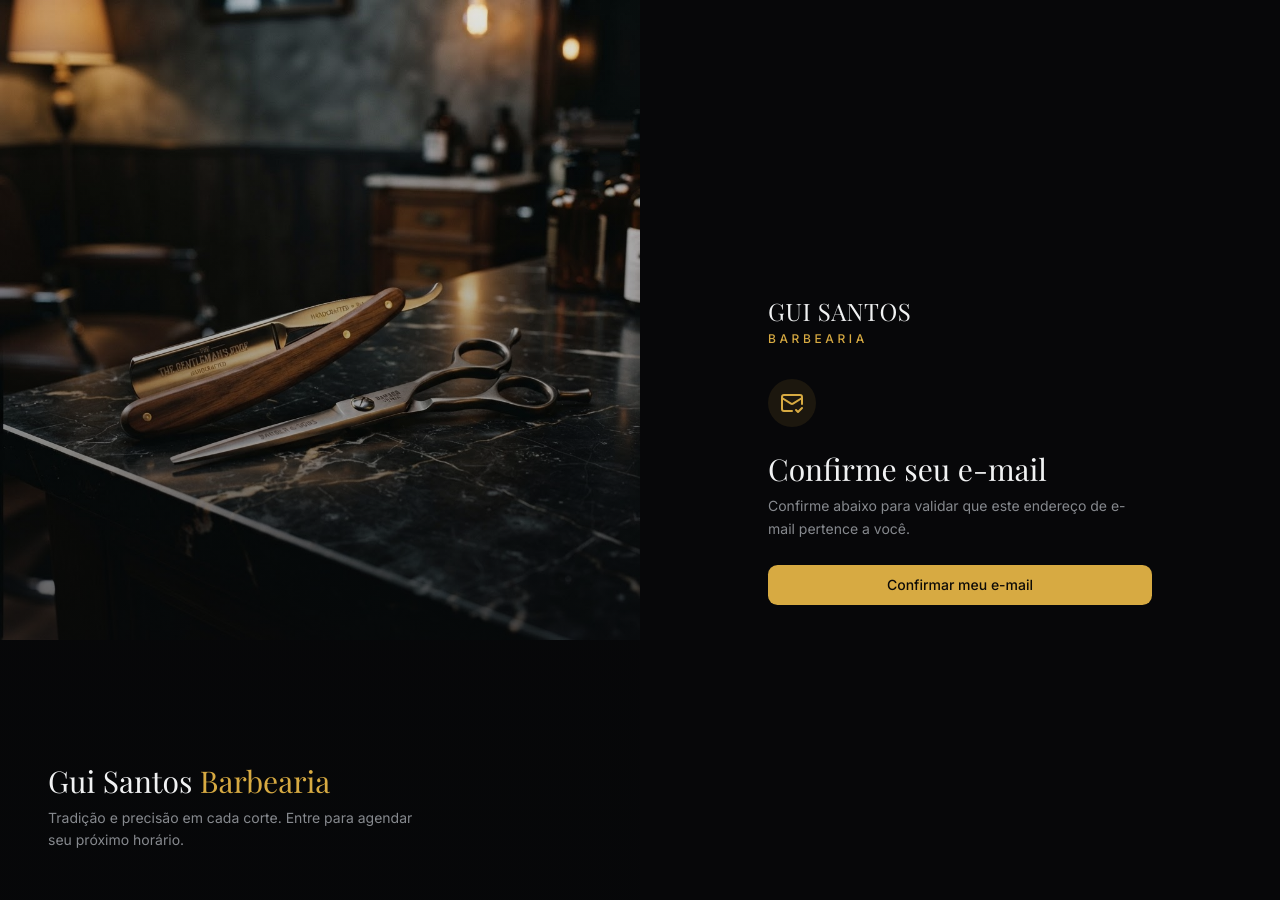
Test case: confirmação de e-mail › permite tentar novamente depois de uma falha de rede
Click the button "Confirmar meu e-mail" at (960, 585), box [768,565,1152,605]
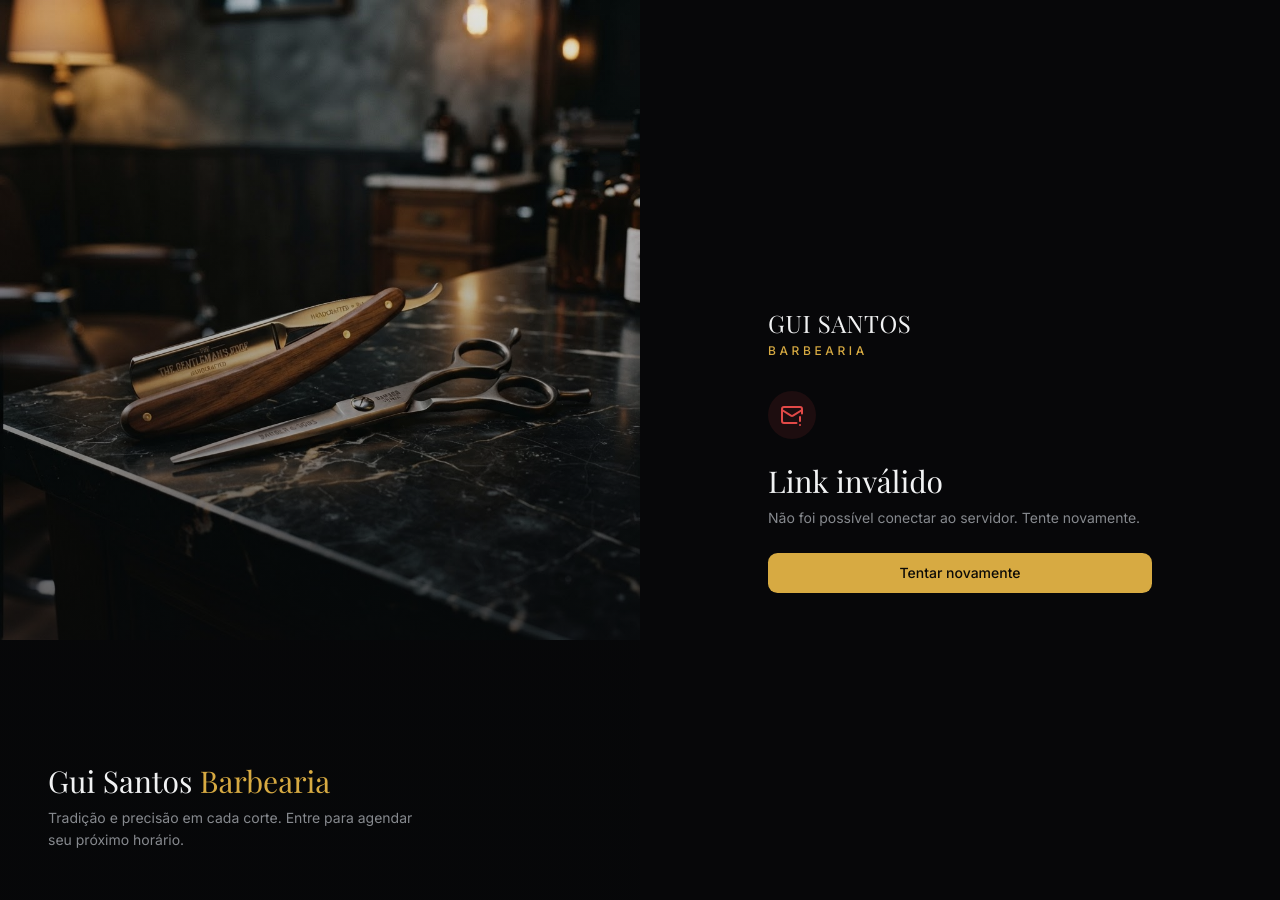
Expected: the button "Ir para o login" is not shown
Now the text "Não foi possível conectar ao servidor. Tente novamente." is shown, box [768,507,1152,529]
Click the button "Tentar novamente" at (960, 573), box [768,553,1152,593]
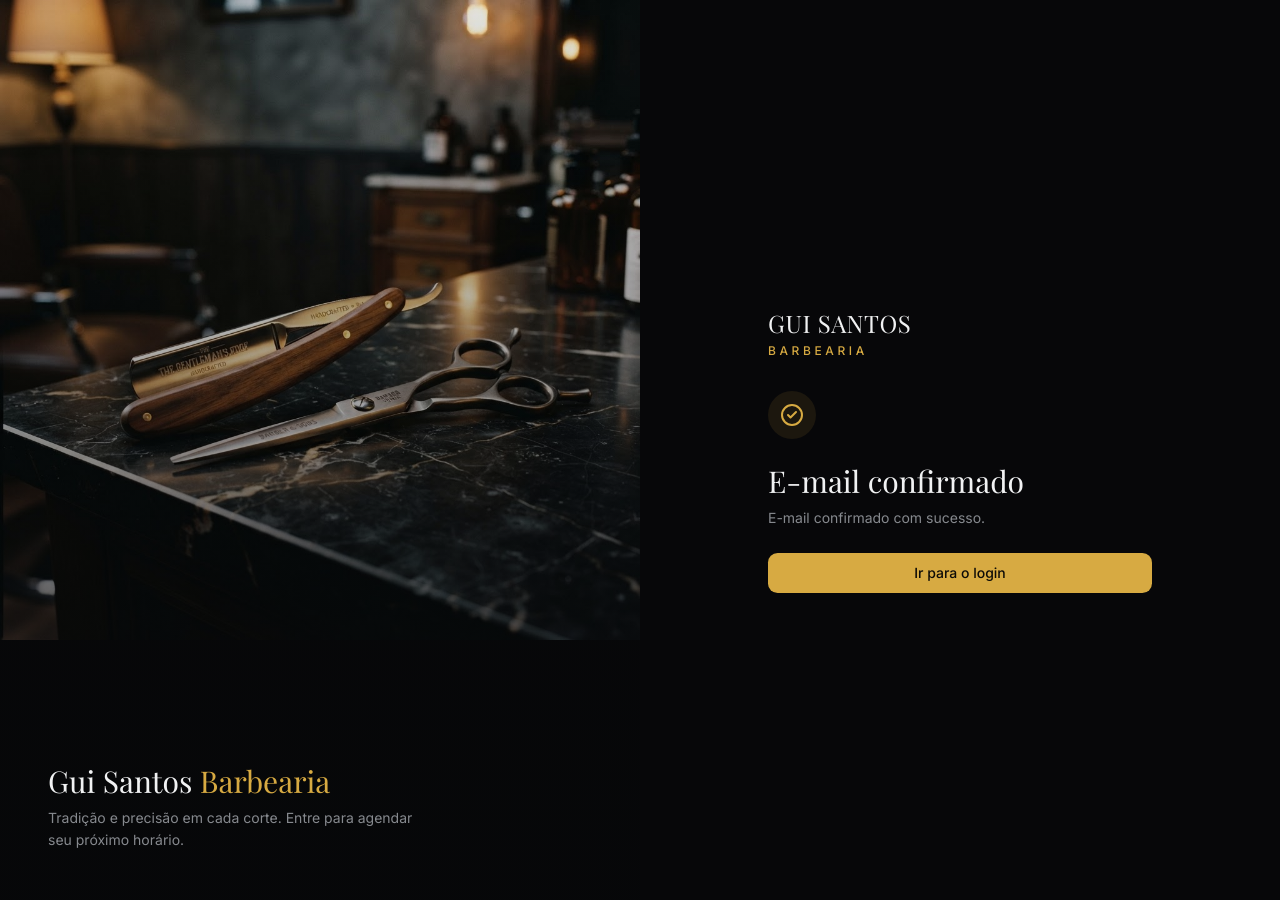
Now the heading "E-mail confirmado" is shown, box [768,461,1024,501]
Now the text "E-mail confirmado com sucesso." is shown, box [768,509,985,526]
